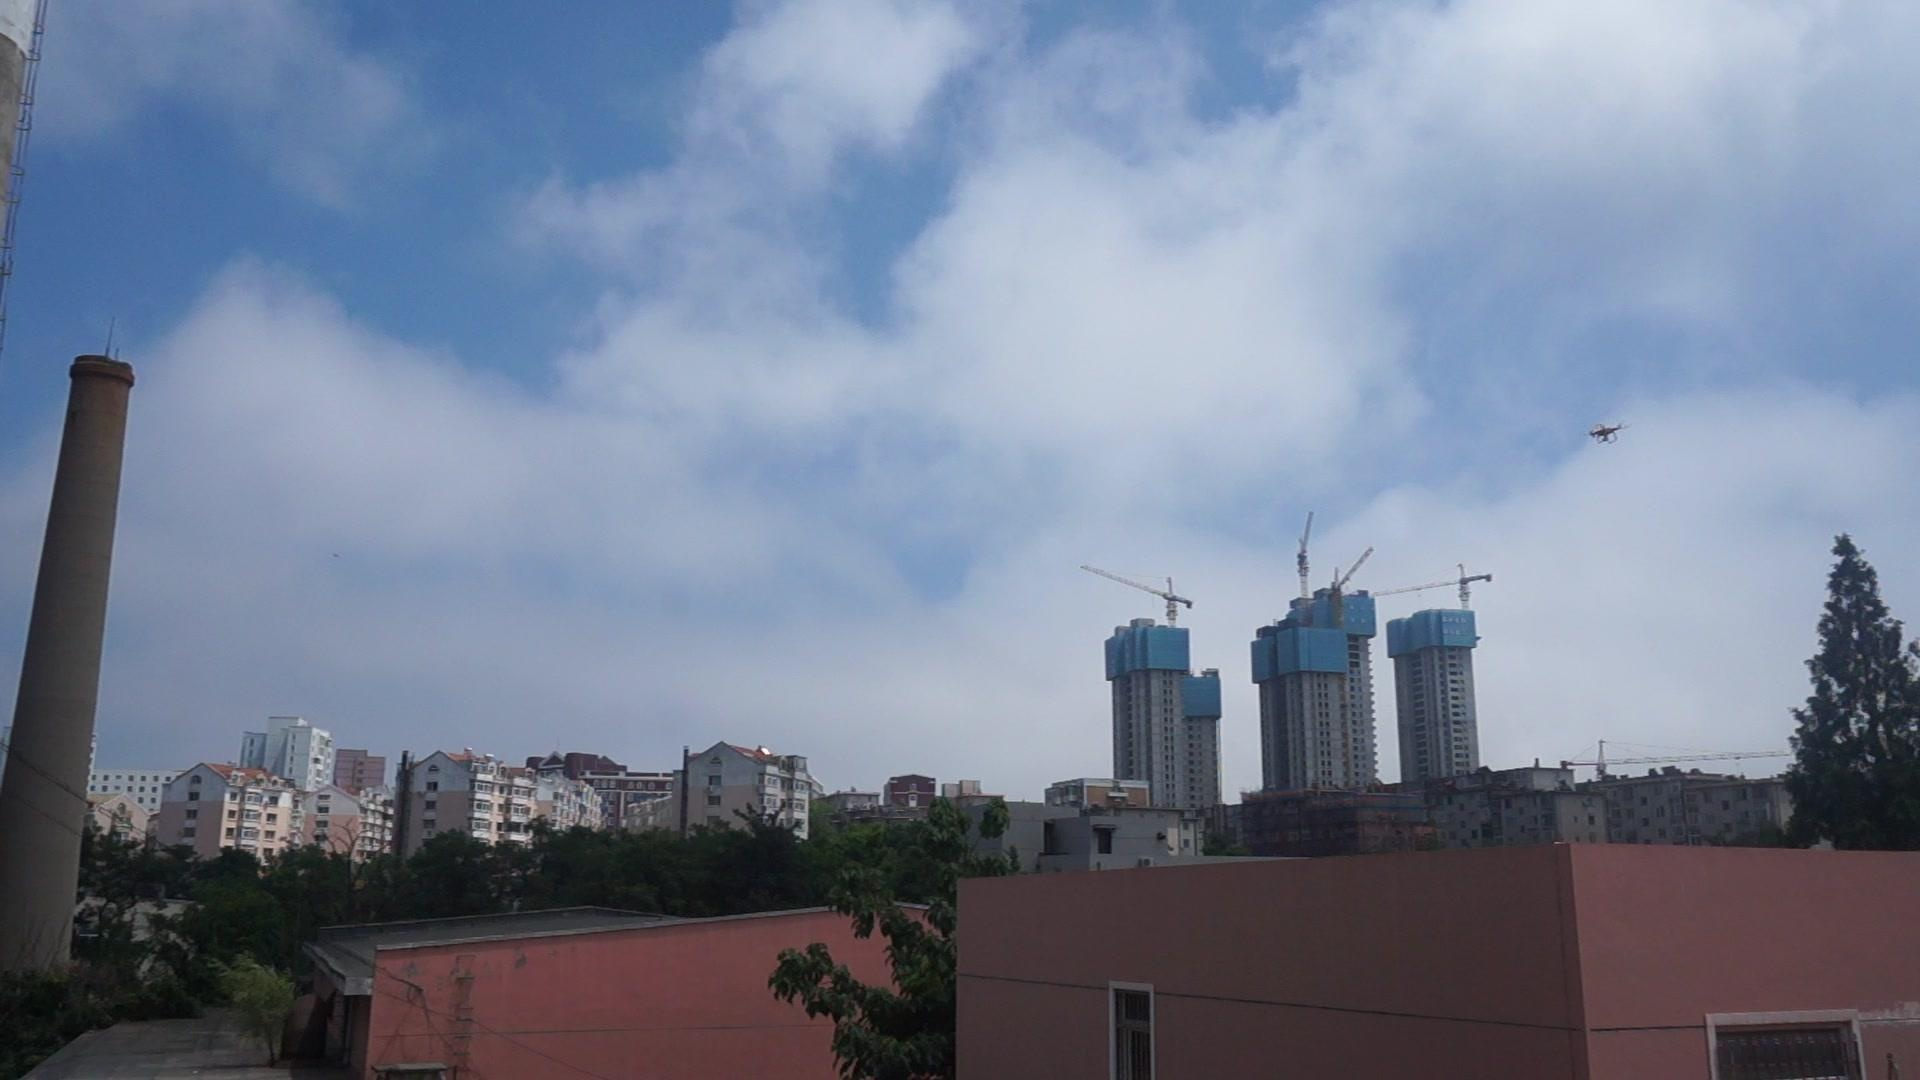UAV: (1584, 422, 1633, 444)
